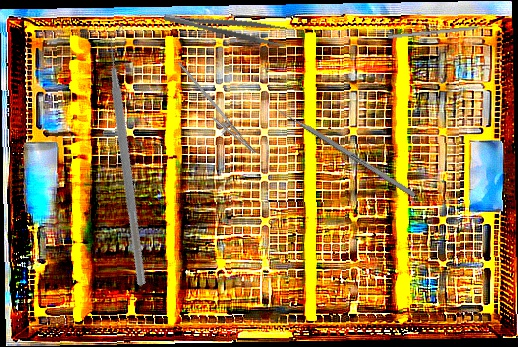Chopper: (4, 20, 262, 288)
Dressing Forceps: (163, 1, 287, 49)
Needle Holder: (161, 61, 267, 161)
Pusher: (265, 100, 417, 198), (388, 23, 502, 39)
